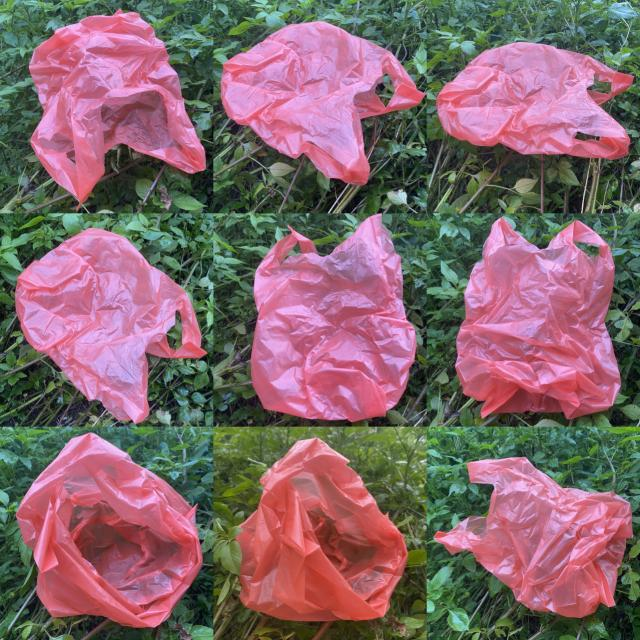Single-layer Plastic: (15, 229, 206, 422), (16, 432, 202, 628), (251, 215, 416, 421), (30, 10, 205, 203), (221, 21, 424, 184), (456, 219, 620, 419), (435, 458, 632, 618), (236, 438, 408, 621), (436, 42, 634, 158)
